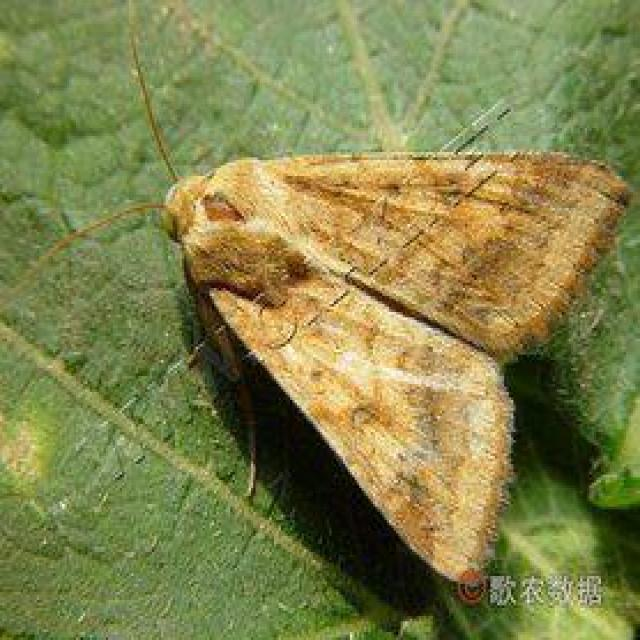BeetArmyWorm-Adult-: (52, 92, 626, 594)
